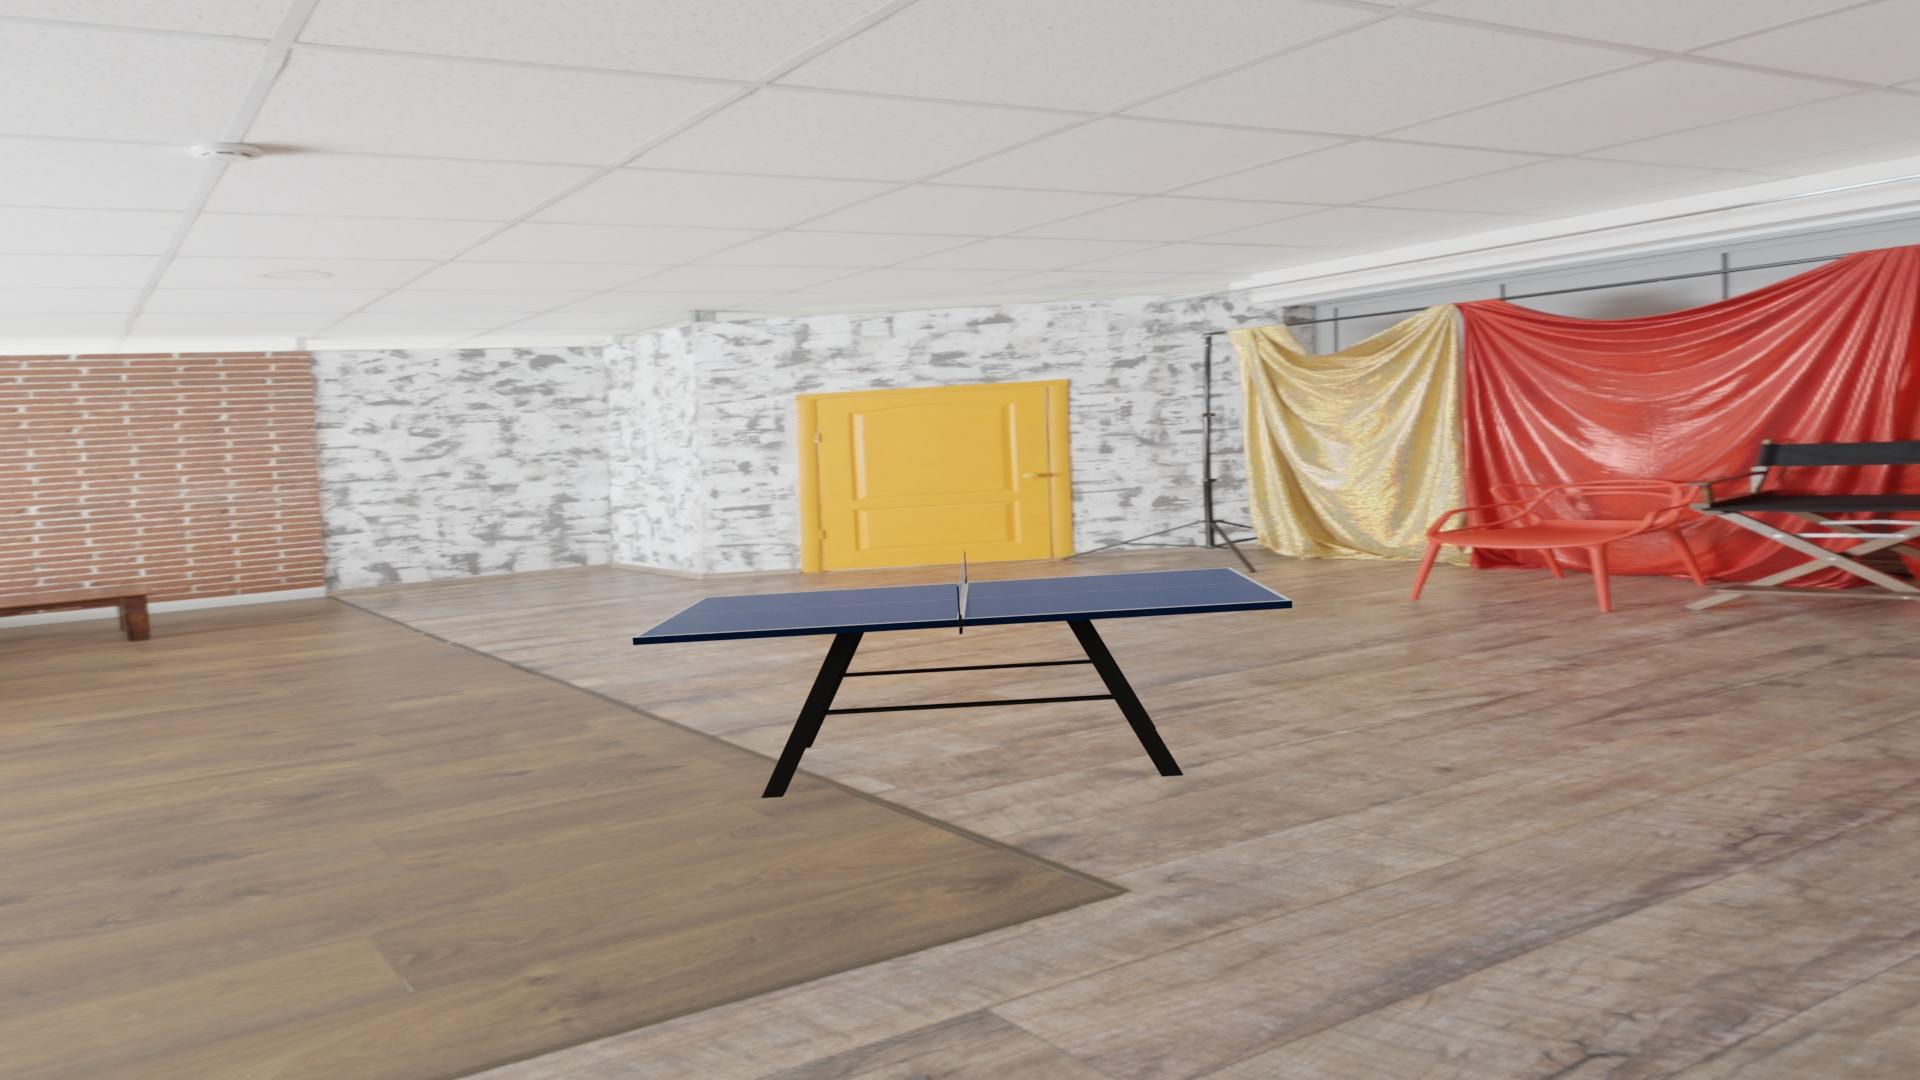table: (638, 568, 1287, 637)
